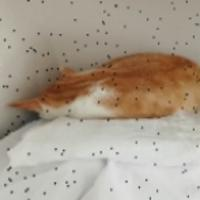asleep: (5, 46, 200, 121)
